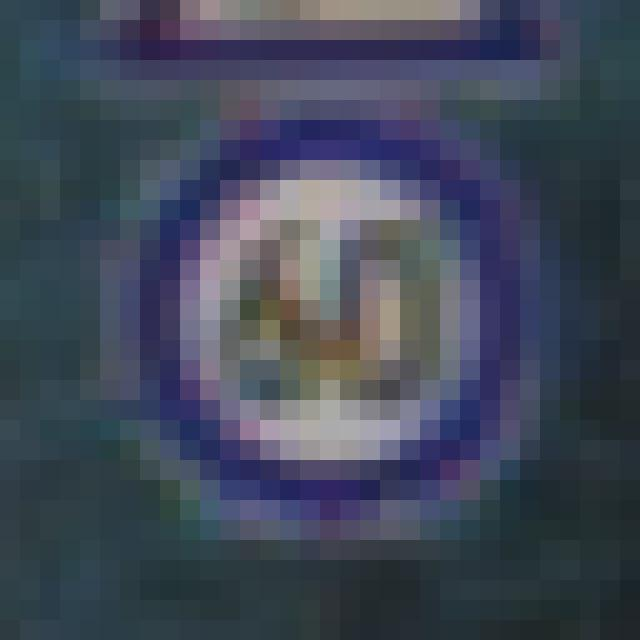SPEED-LIMIT-60: (84, 98, 546, 553)
